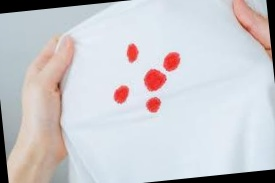blood: (143, 67, 168, 91), (162, 51, 181, 71), (112, 85, 131, 105), (126, 43, 140, 63), (145, 97, 162, 113)
